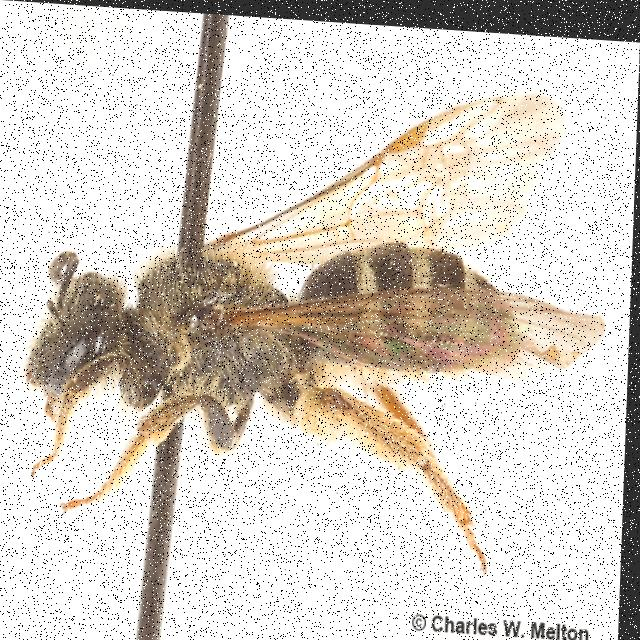Lasioglossum: (15, 50, 623, 600)
